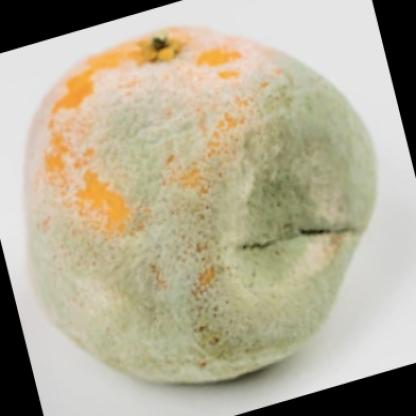rotten: (23, 31, 374, 384)
